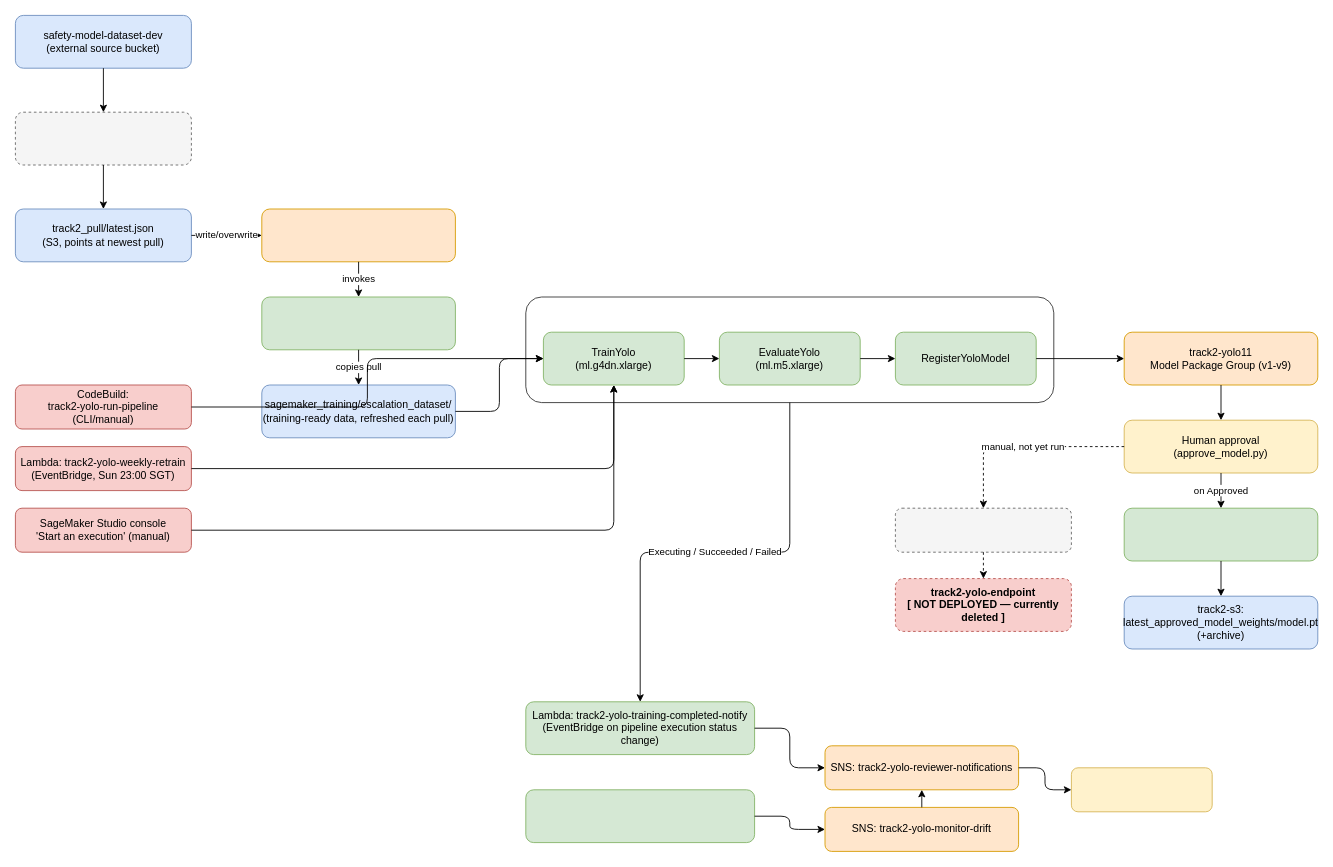
Some shapes in this 1333 by 867 pixel diagram are drawn without their labels. Here are the shapes that lost their labels. From the top down, the box of each, then its label:
(15, 111, 191, 165): External escalation-dataset pull pipeline (outside this repo)
(261, 208, 455, 262): S3 ObjectCreated event (prefix=track2_pull/, suffix=latest.json)
(261, 296, 455, 350): Lambda: track2-sagemaker-pull-training (pull_training_data.py) — automatic
(525, 296, 1054, 403): track2-yolo-training-pipeline
(895, 507, 1071, 552): deploy_endpoint.py (manual script)
(1123, 507, 1318, 561): Lambda: dump_approved_weights (EventBridge on ModelApprovalStatus=Approved)
(1071, 767, 1212, 812): Email (confirmed subscriber)
(525, 789, 755, 843): Lambdas: confidence_monitor + trigger_review (drift monitoring)
